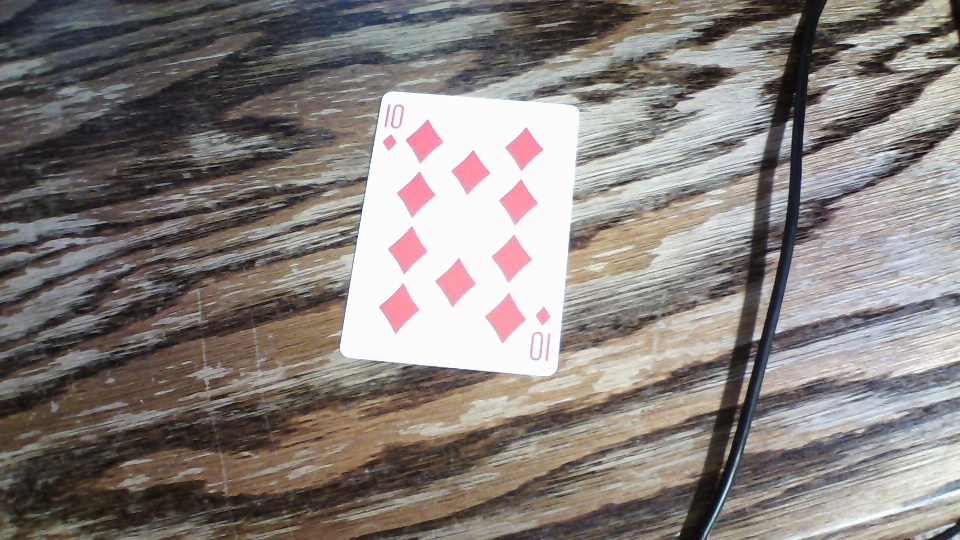ten: (339, 89, 581, 376)
